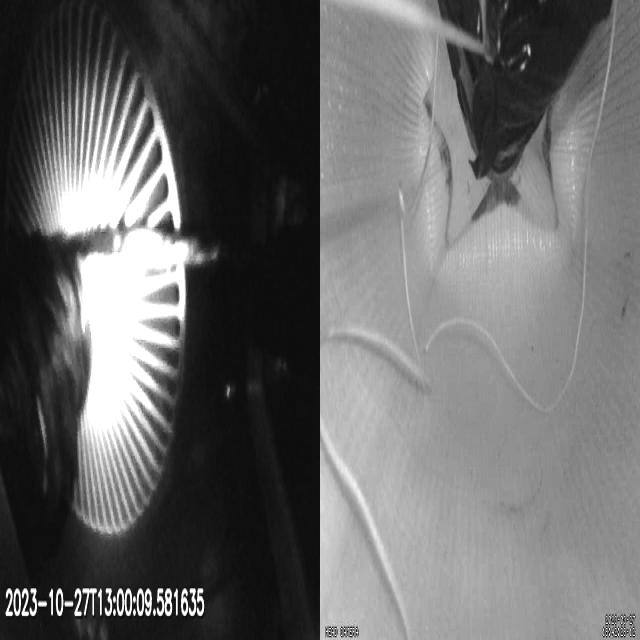red-circle: (422, 90, 558, 222)
